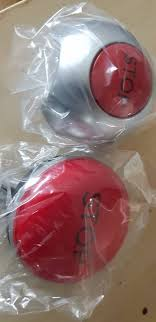bell: (8, 152, 133, 286)
